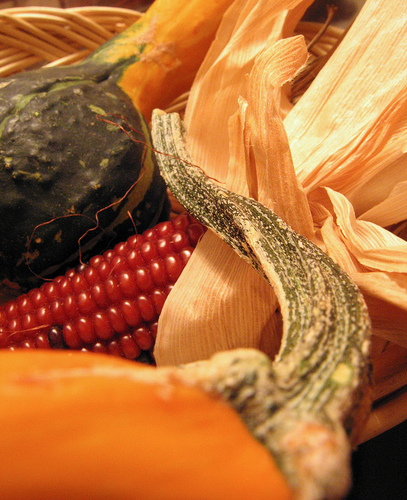corn: (0, 219, 210, 376)
